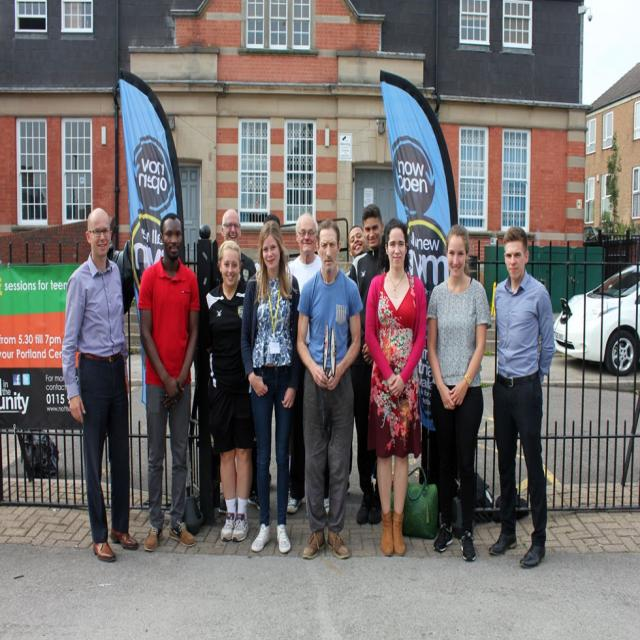body: (59, 205, 141, 564), (485, 223, 557, 572), (295, 217, 365, 562), (362, 215, 430, 562), (134, 210, 202, 554), (425, 222, 493, 564), (238, 217, 304, 558), (200, 238, 253, 542), (282, 209, 334, 516), (213, 208, 260, 515), (348, 202, 388, 527), (261, 212, 292, 490), (341, 224, 368, 282)
